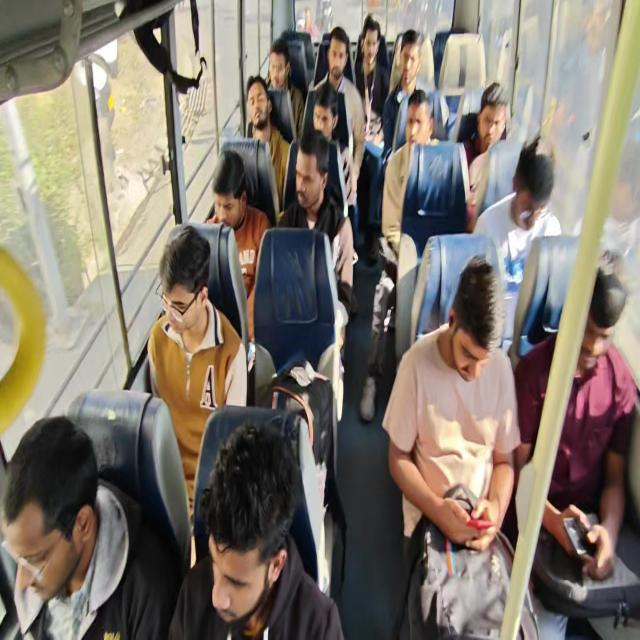person: (179, 448, 339, 640), (0, 391, 114, 640), (134, 233, 226, 375), (546, 272, 636, 393), (203, 157, 264, 230), (440, 300, 491, 386), (521, 142, 560, 237), (282, 144, 328, 224), (393, 102, 436, 154), (264, 31, 300, 92), (326, 28, 362, 85), (401, 21, 432, 75), (478, 86, 507, 138), (240, 71, 263, 119), (303, 106, 333, 139), (364, 12, 383, 64)
